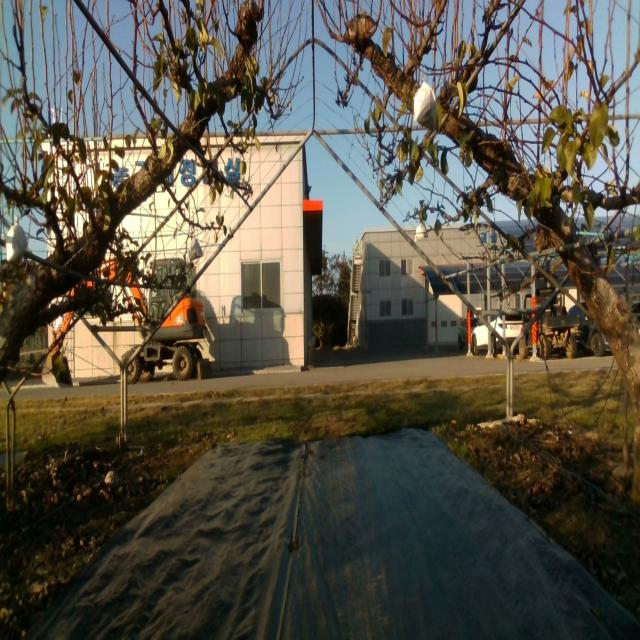pearbags: (412, 80, 436, 132), (5, 214, 28, 264), (188, 235, 204, 263), (414, 222, 428, 241)
